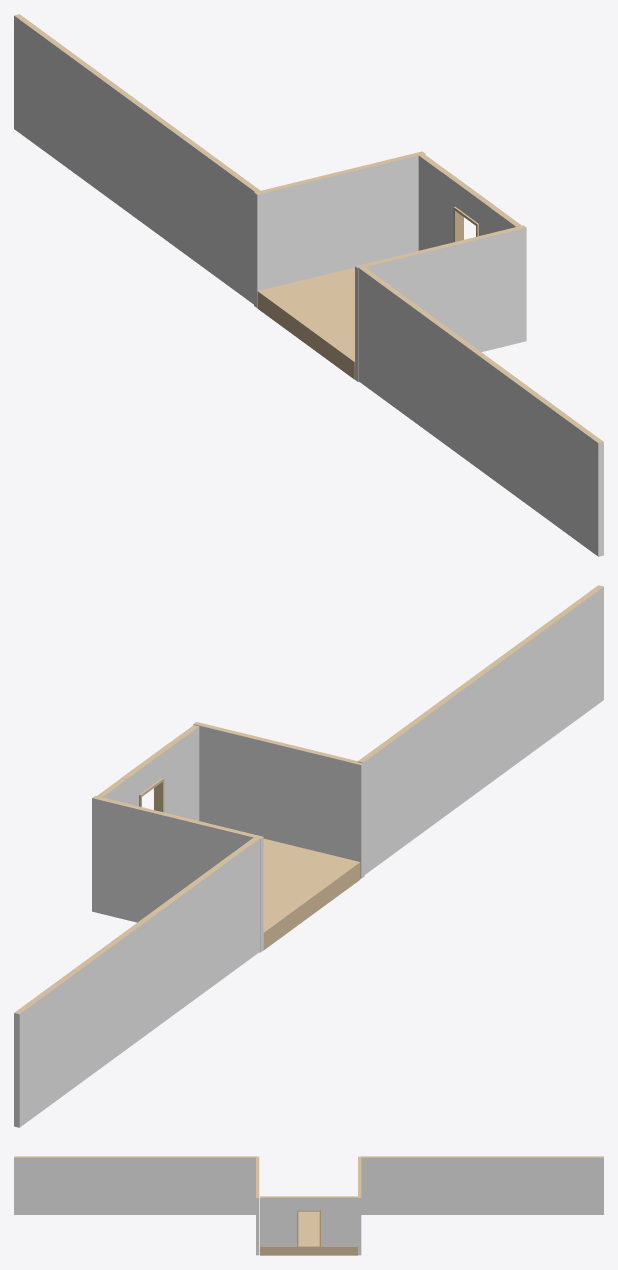
Rendered from front.gltf.
The picture shows the model from 3 angles, top to bottom: view 1: azimuth 30°, elevation 25°; view 2: azimuth 150°, elevation 25°; view 3: azimuth 270°, elevation 25°; orthographic projection. The views are drawn at different scales.
Parts seen in each view (by area): view 1: ドア壁ベース.001, センター部屋.001; view 2: ドア壁ベース.001, センター部屋.001; view 3: ドア壁ベース.001, センター部屋.001.
Part boxes in pixels (left/top/right/bottom): ドア壁ベース.001: left=14, top=14, right=603, bottom=556; センター部屋.001: left=257, top=267, right=354, bottom=379; ドア壁ベース.001: left=14, top=585, right=603, bottom=1127; センター部屋.001: left=263, top=838, right=360, bottom=950; ドア壁ベース.001: left=14, top=1156, right=603, bottom=1255; センター部屋.001: left=260, top=1211, right=357, bottom=1255.
Bounding box in the file's own units: 1.25 × 0.8155 × 7.52.
